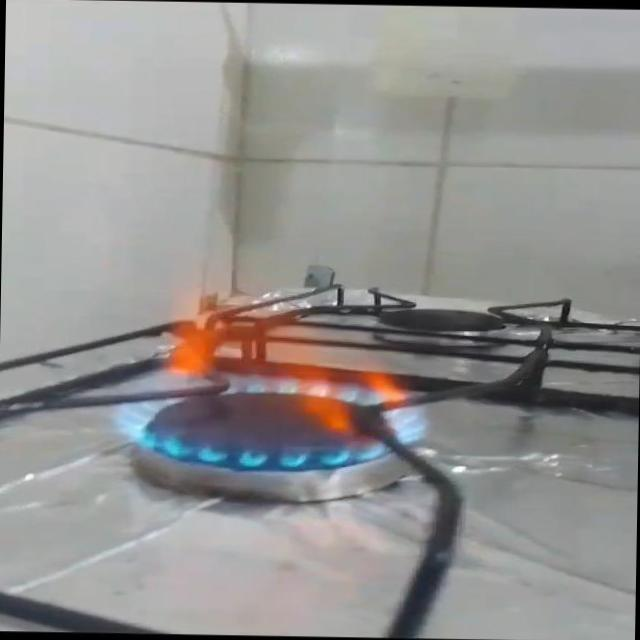Fire: (100, 276, 434, 478)
